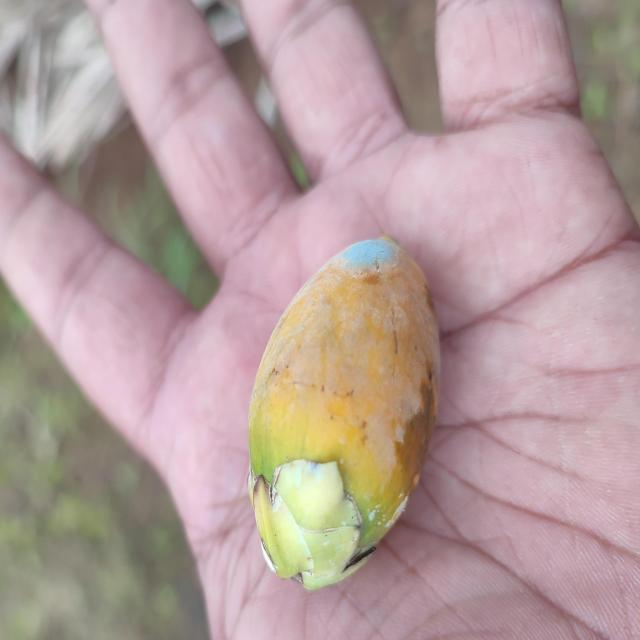good: (247, 237, 441, 594)
